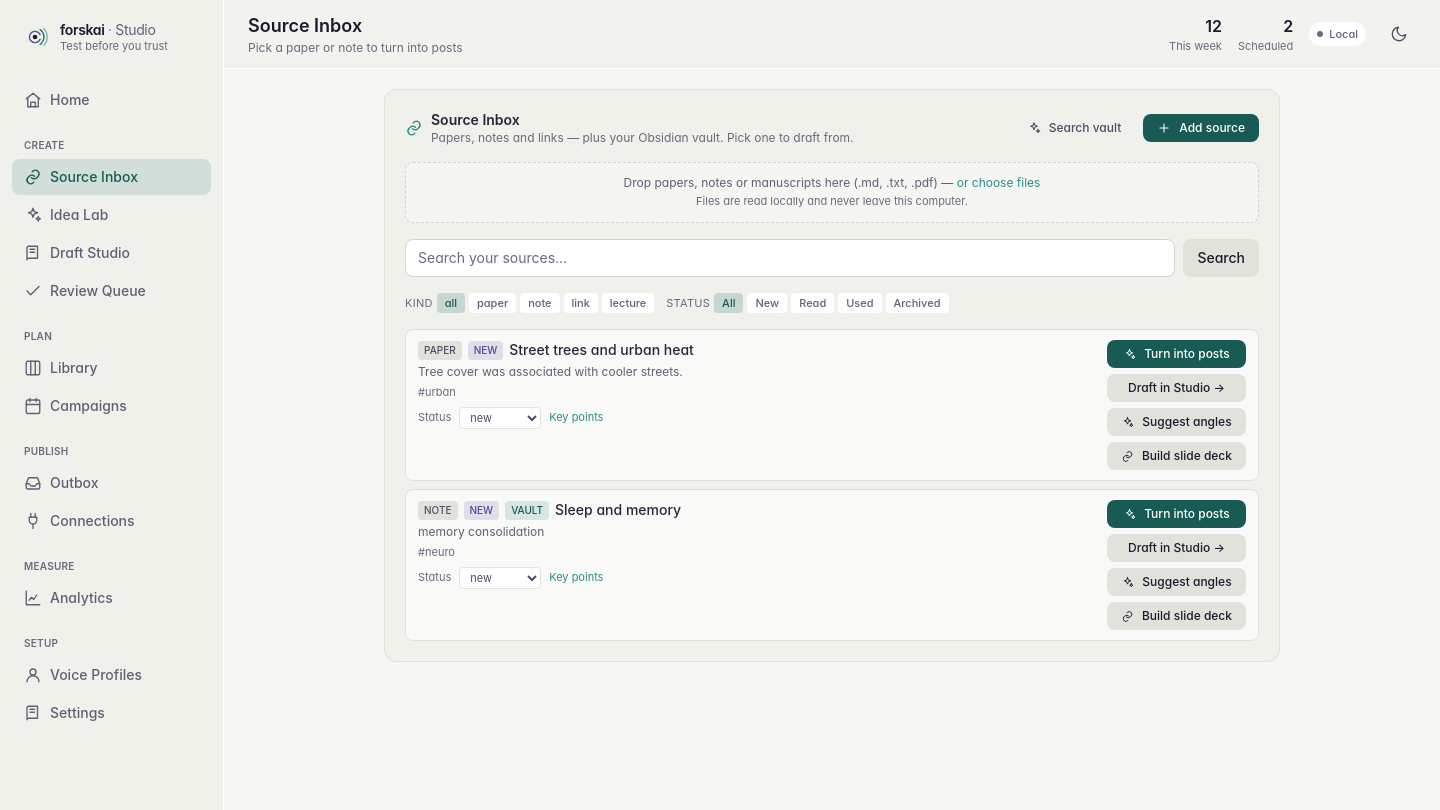
Test case: Source Inbox › searches the vault by meaning and drafts from a passage
Check: the list with test id "source-list" is shown, box x1=405 y1=329 x2=1259 y2=641
Step 1. Click the button "Search vault" → (1074,128), box x1=1013 y1=114 x2=1135 y2=142
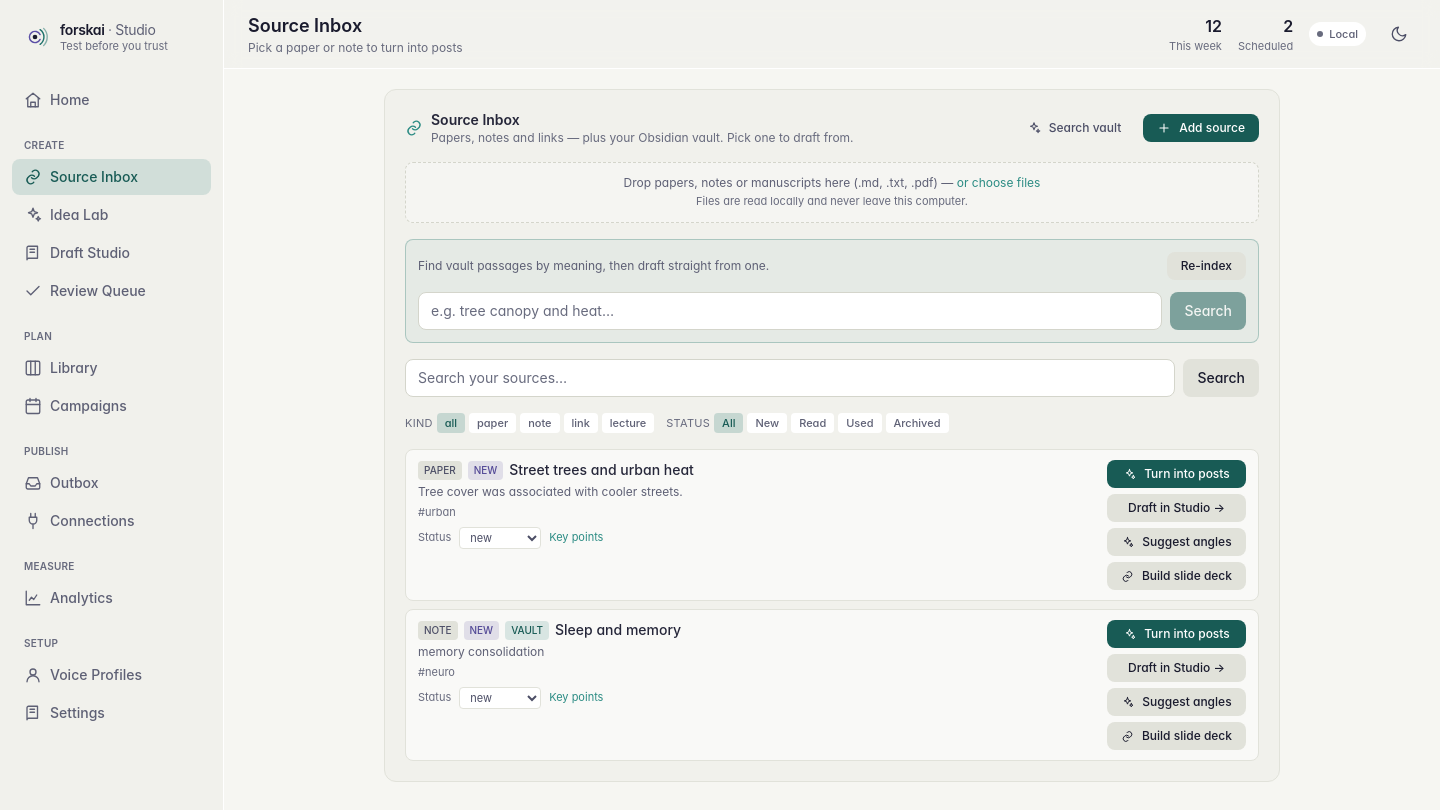
Step 2. Type "trees pavement" into the field named "Search your vault" → (790,310), box x1=418 y1=292 x2=1162 y2=330
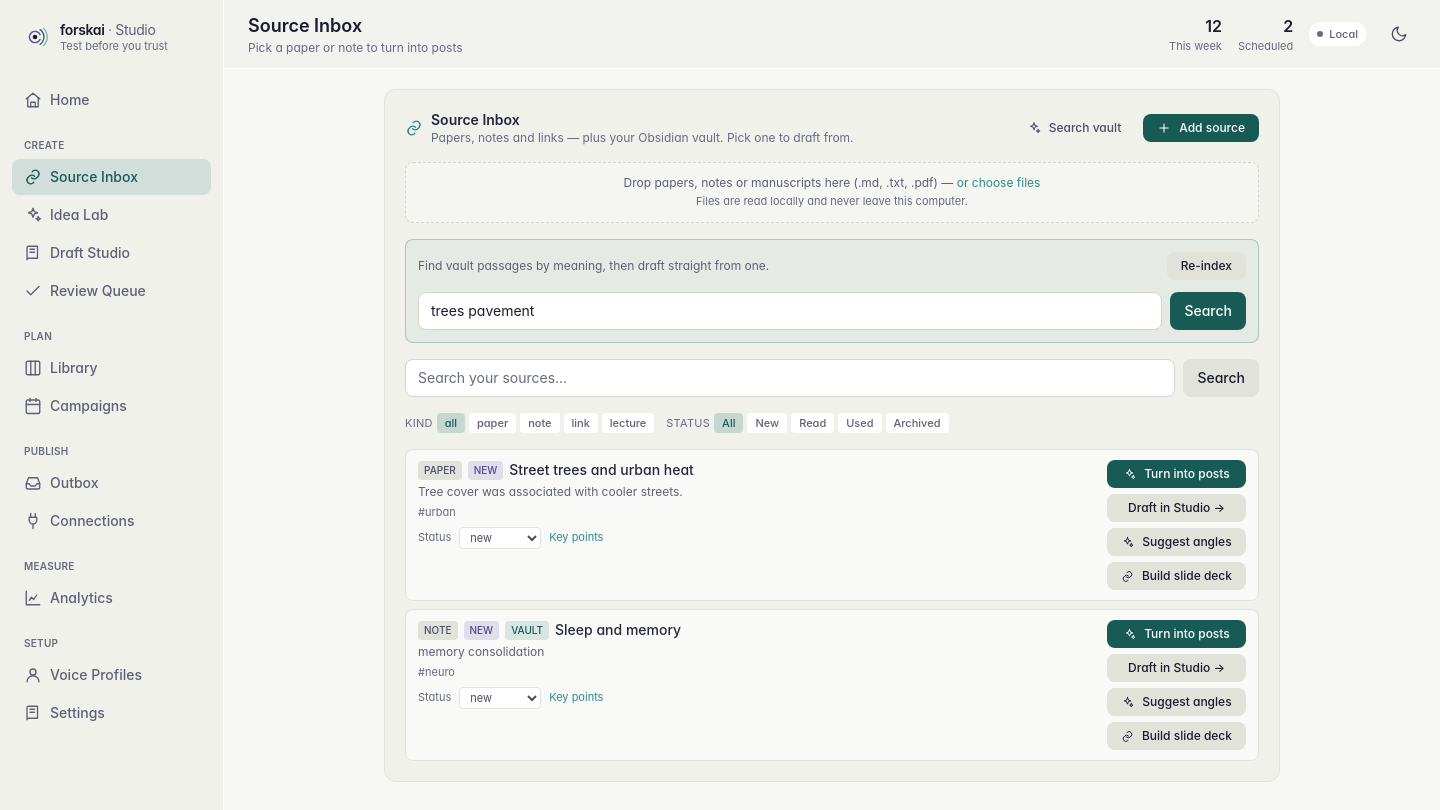
Step 3. Click the 1st button "Search" → (1208,310), box x1=1170 y1=292 x2=1246 y2=330
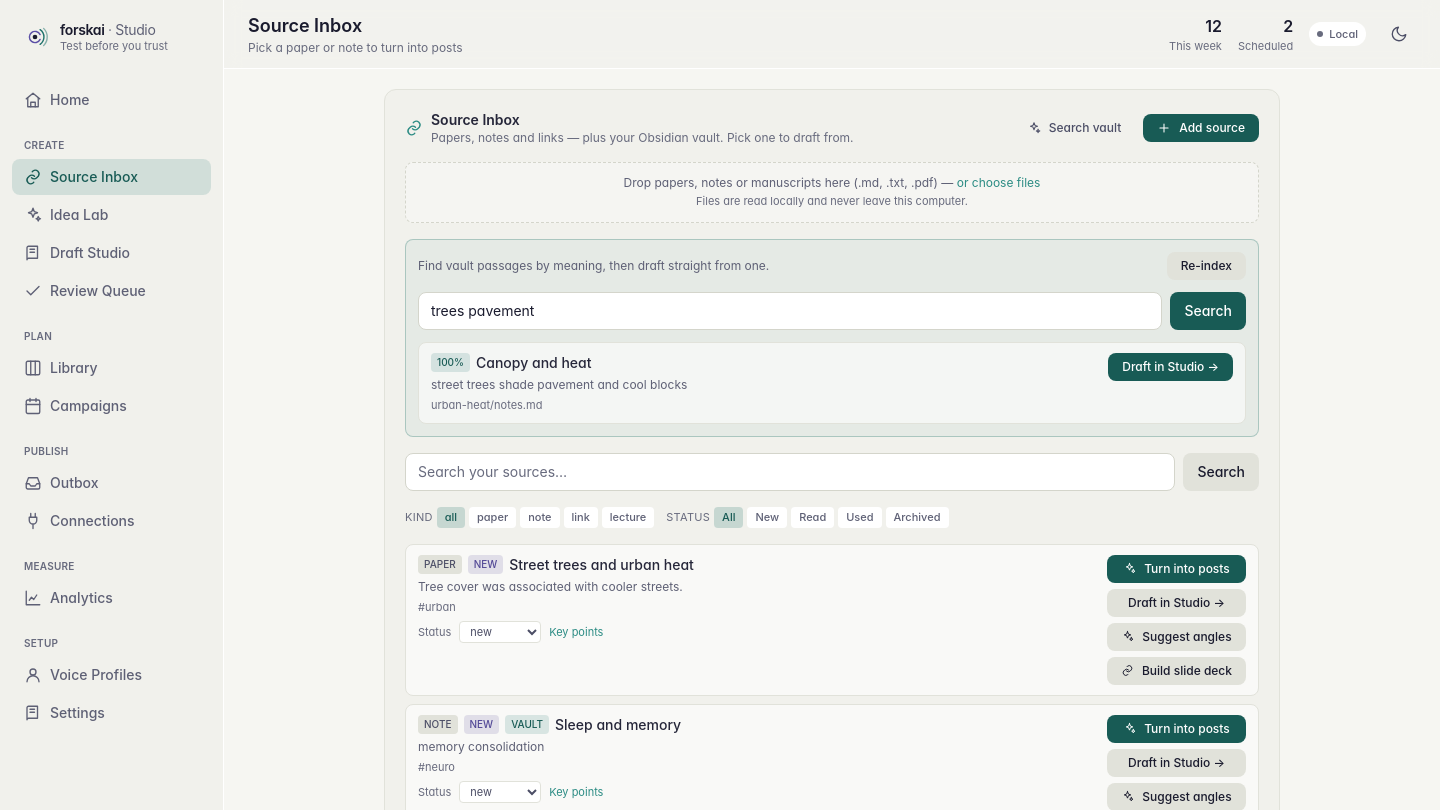
Check: the text "Canopy and heat" is shown, box x1=476 y1=352 x2=592 y2=372
Step 4. Click the button "Draft in Studio →" in the row of "100" → (1171,366), box x1=1108 y1=352 x2=1233 y2=380
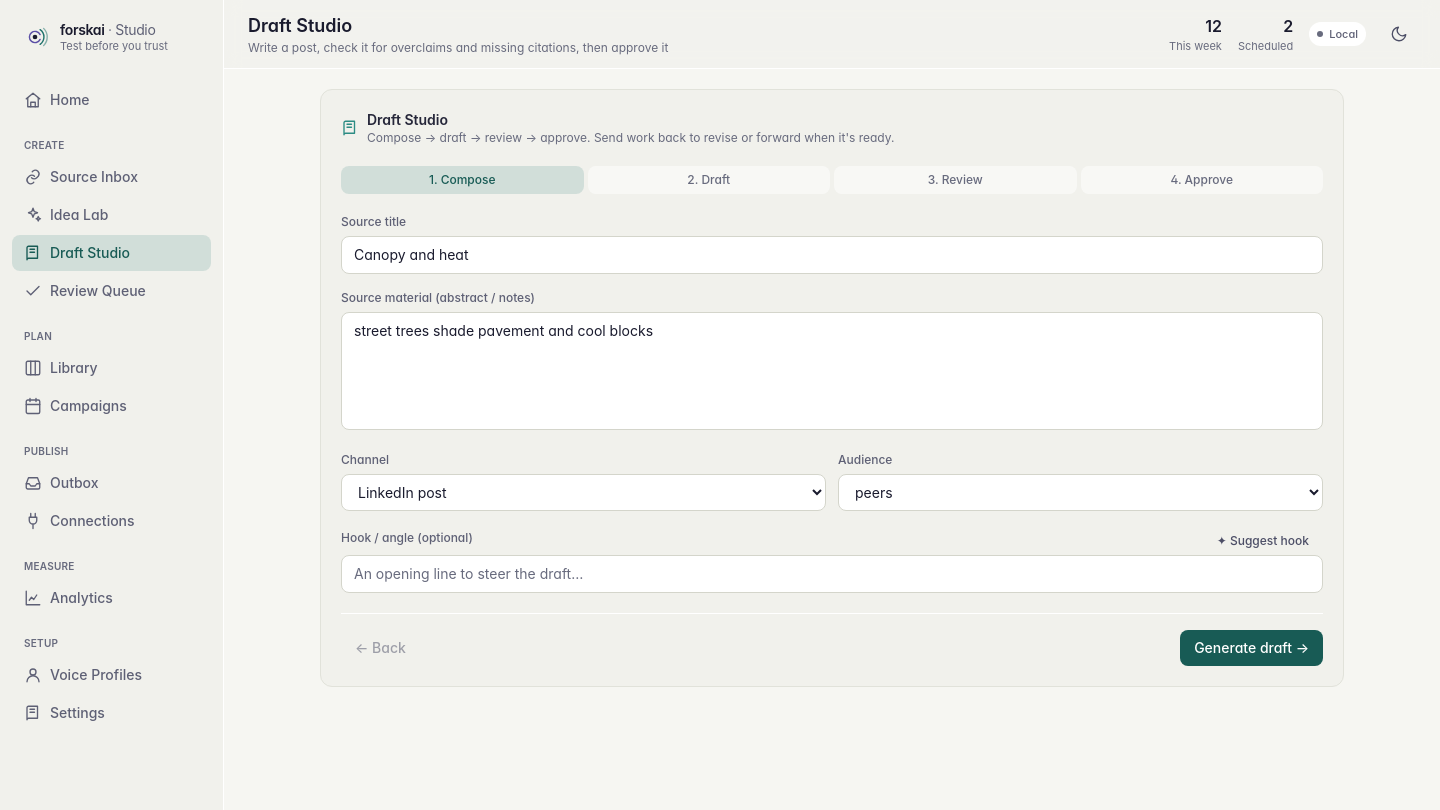
Check: the field labelled "Source title" holds "Canopy and heat", box x1=341 y1=236 x2=1323 y2=274
